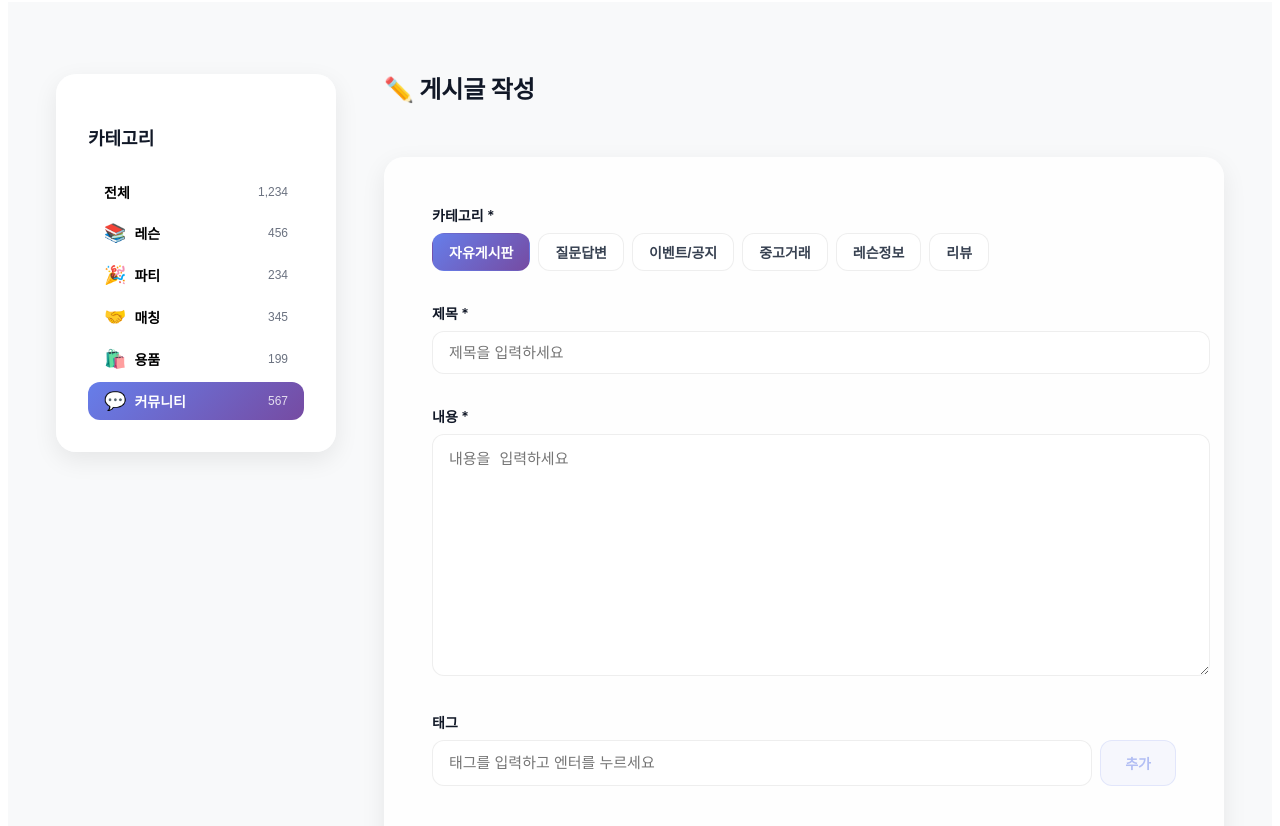
Test: PostForm 컴포넌트 › 게시글 작성 › 게시글 작성 실패 시 에러 메시지를 표시한다
The image size is (1280, 826).
Type "제목" into the field labelled "제목 *" at (821, 352), box [432,331,1210,374]
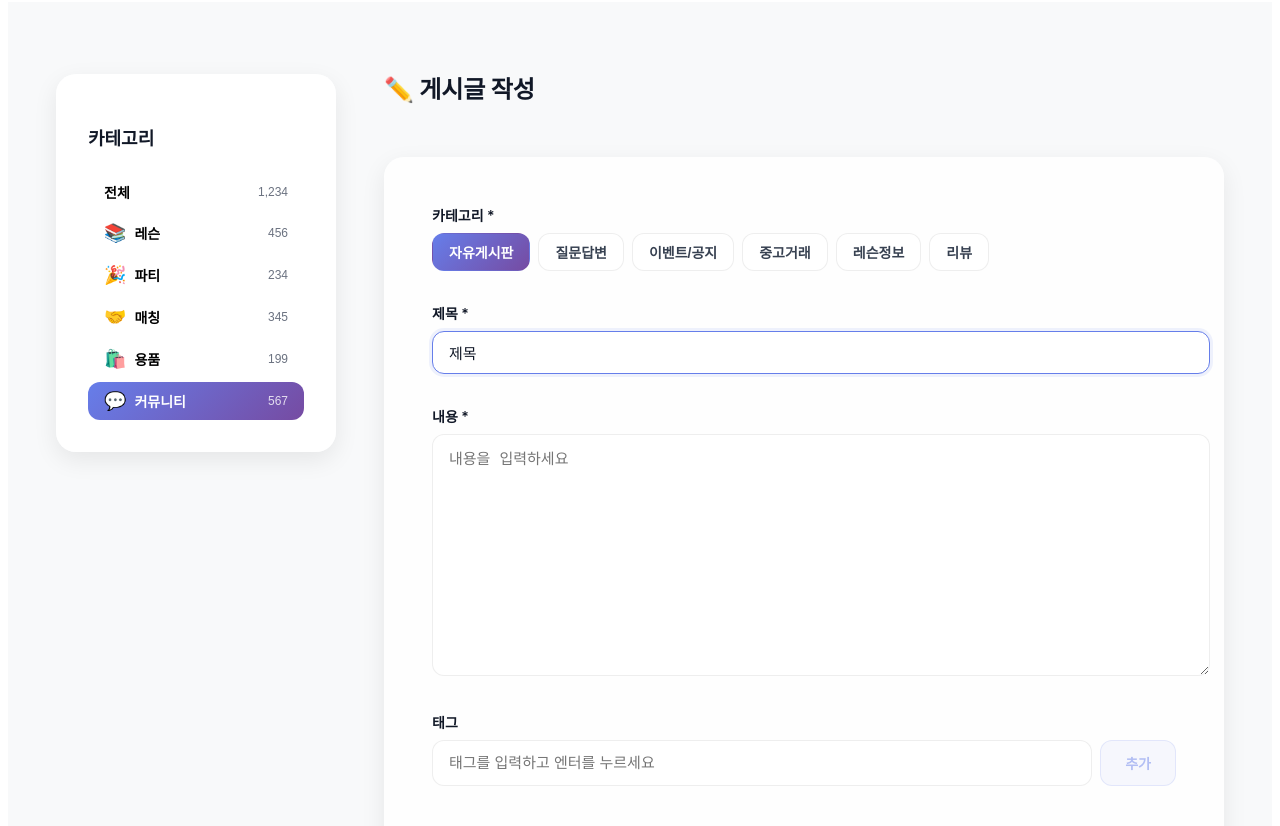
Type "내용" into the text box labelled "내용 *" at (821, 555), box [432,434,1210,676]
(page scrolled)
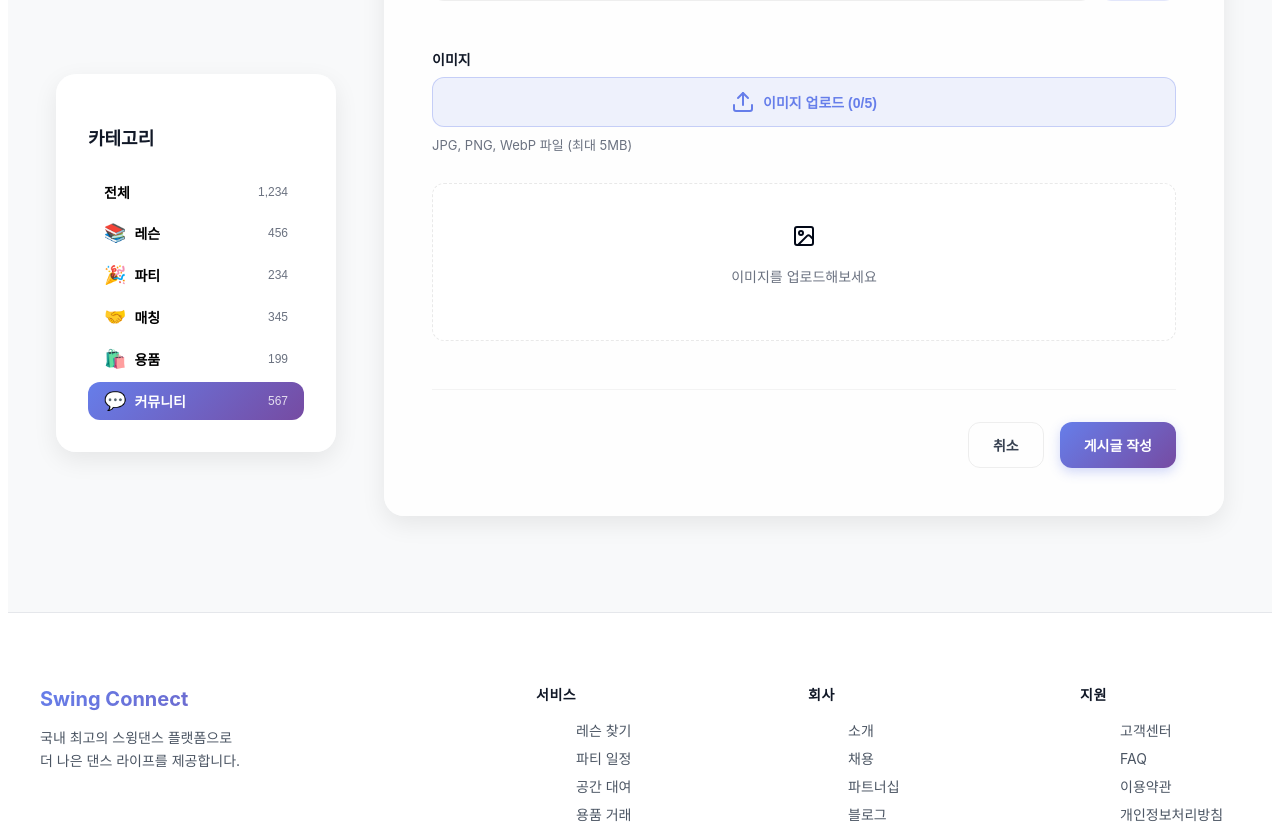
Click the button "게시글 작성" at (1118, 445), box [1060,422,1176,468]
(page scrolled)
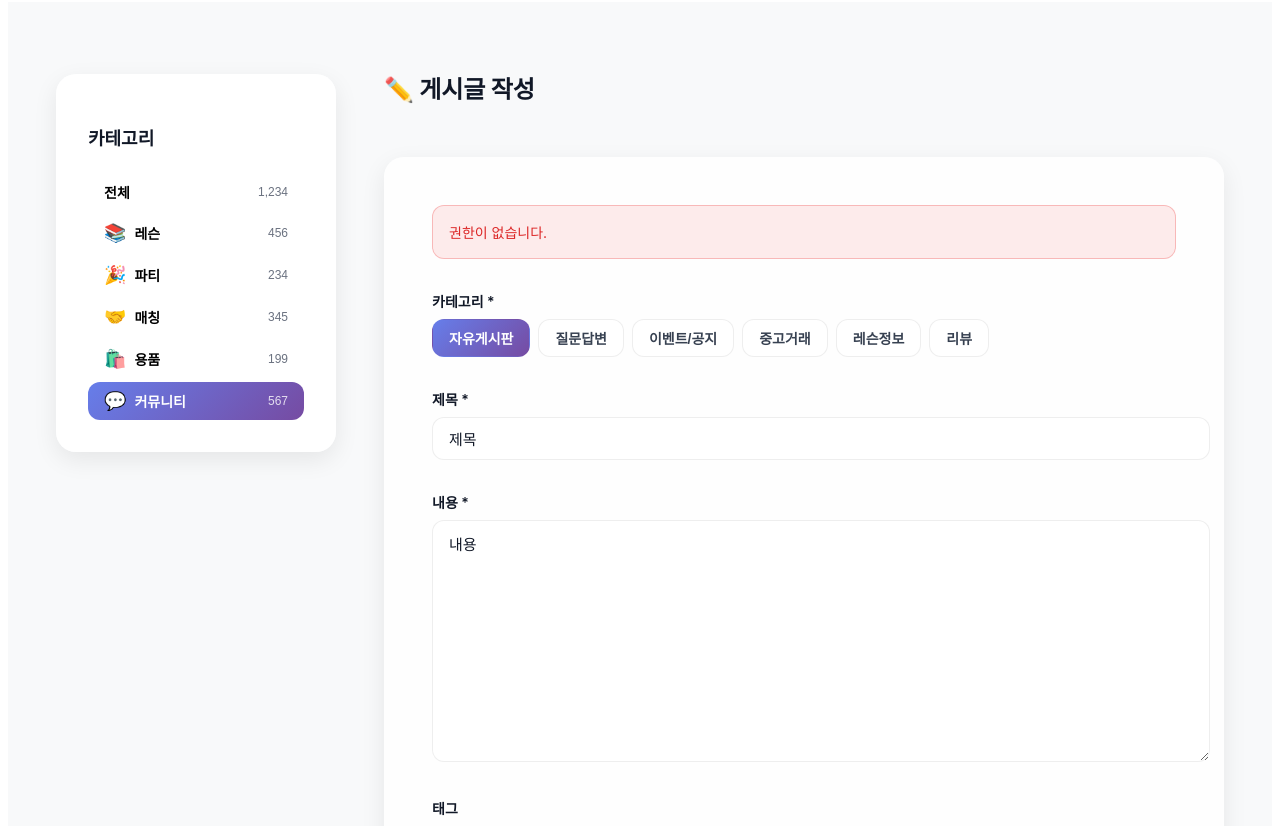
Now the text "권한이 없습니다." is shown, box [432,205,1176,259]
